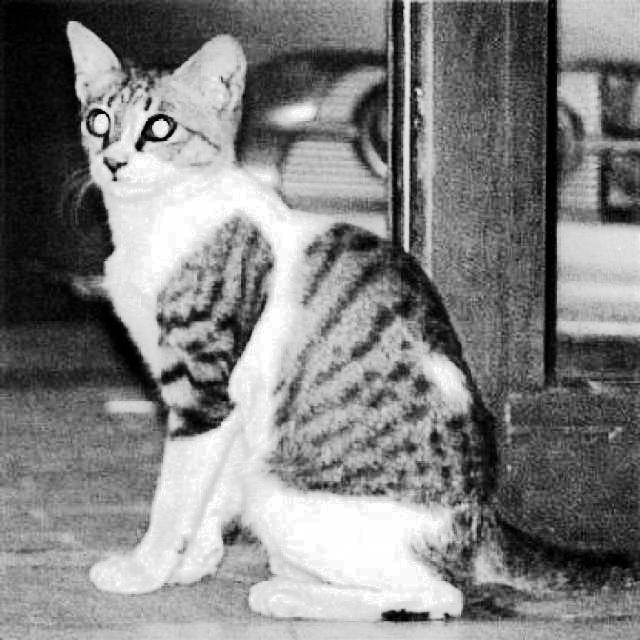Cat: (58, 10, 640, 629)
